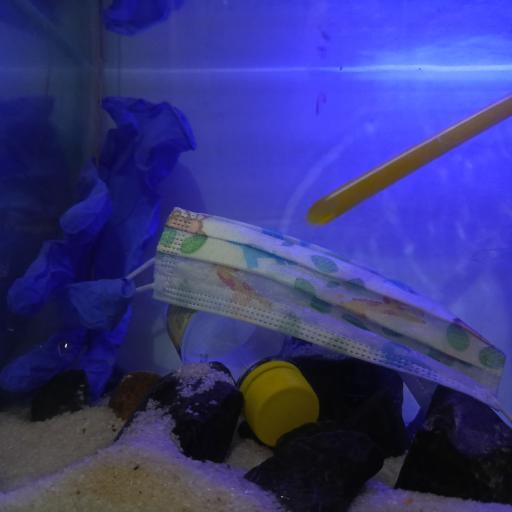bottle_cap: (238, 371, 318, 442)
glove: (4, 91, 193, 400)
mask: (130, 204, 508, 418)
plastic_bottle: (166, 272, 326, 441)
plastic_straw: (311, 91, 512, 223)
